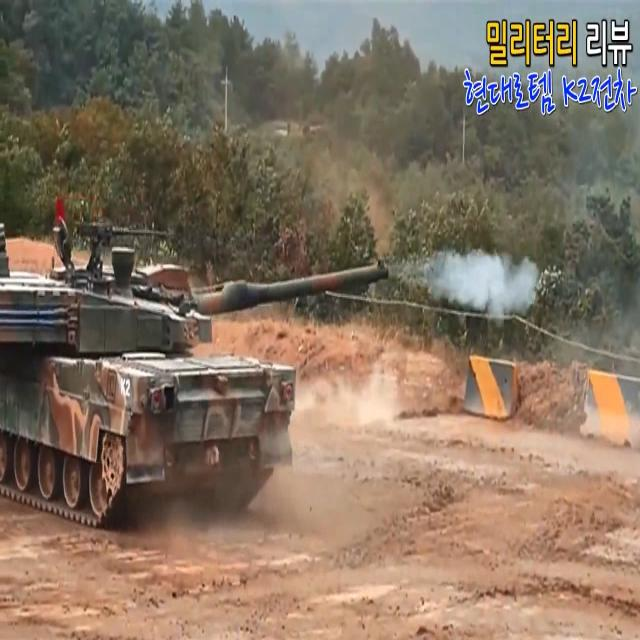korea tank: (1, 218, 390, 532)
